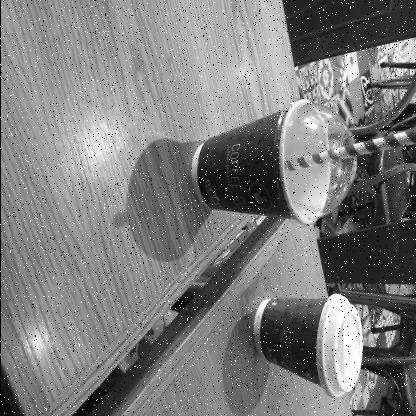cardboard: (252, 294, 334, 386)
glass: (191, 103, 296, 228)
paper: (188, 106, 288, 218)
plastic: (272, 102, 410, 226), (314, 296, 362, 398)
